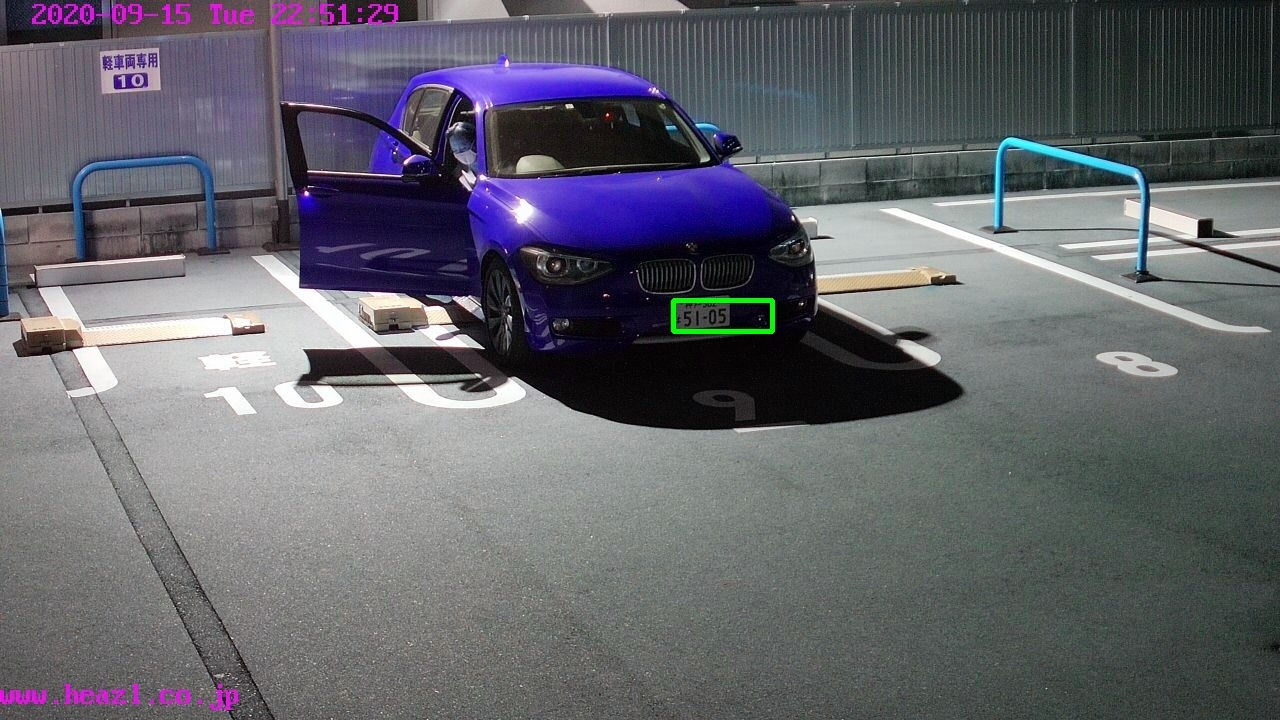number_plate: (671, 298, 733, 329)
